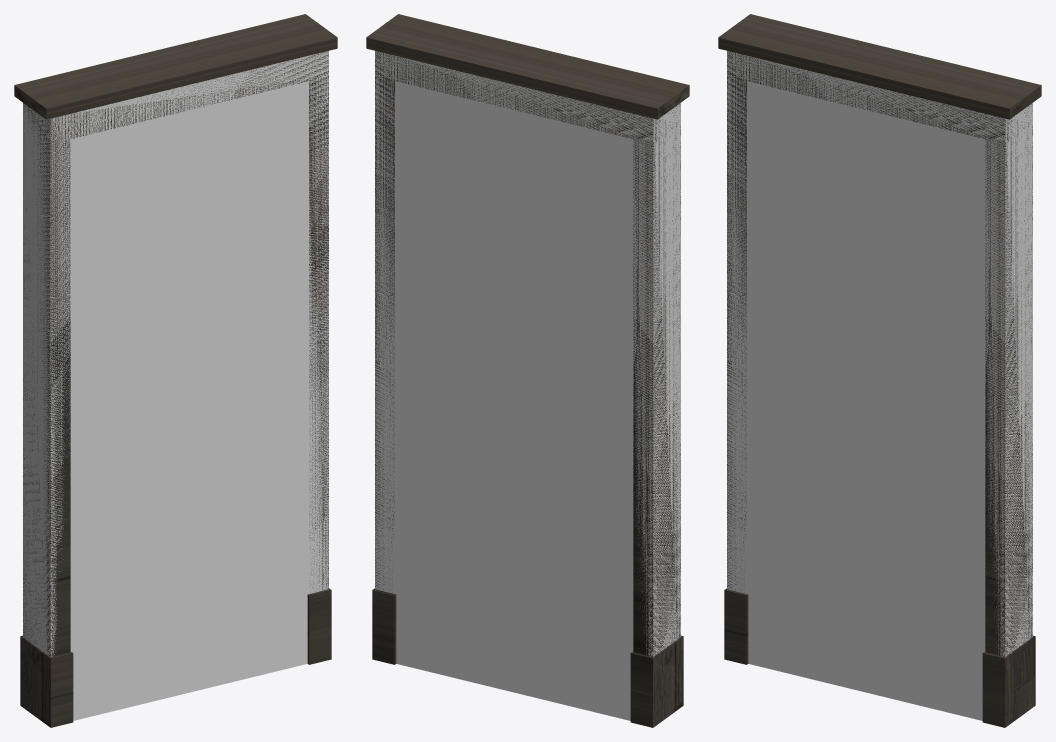
The model's file is SM_Arch_DoorFrame_01.glb.
3 views of the same model, side by side, from view 1: azimuth 30°, elevation 25°; view 2: azimuth 150°, elevation 25°; view 3: azimuth 330°, elevation 25° (orthographic).
Parts seen in each view (by area): view 1: COL_Arch_DoorFrame_01, SM_Arch_DoorFrame_01; view 2: COL_Arch_DoorFrame_01, SM_Arch_DoorFrame_01; view 3: COL_Arch_DoorFrame_01, SM_Arch_DoorFrame_01.
Boxes of the visible parts, left/top/right/bottom form: COL_Arch_DoorFrame_01: left=23, top=51, right=328, bottom=720; SM_Arch_DoorFrame_01: left=14, top=14, right=337, bottom=727; COL_Arch_DoorFrame_01: left=375, top=51, right=680, bottom=720; SM_Arch_DoorFrame_01: left=366, top=14, right=689, bottom=727; COL_Arch_DoorFrame_01: left=727, top=51, right=1032, bottom=720; SM_Arch_DoorFrame_01: left=718, top=14, right=1041, bottom=727.
Size of the model in its own units: 1.1 by 2.24 by 0.21.
Materials: 1 (1 with a texture image).
